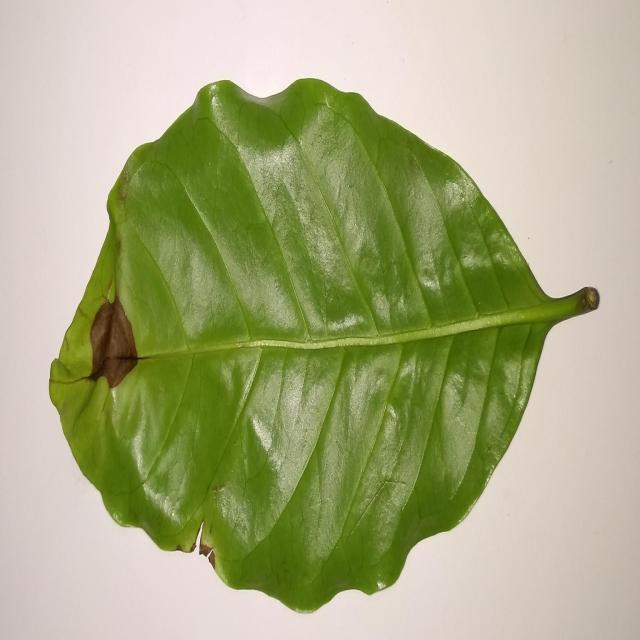Enfermedad-Antracnosis: (46, 79, 601, 616)
